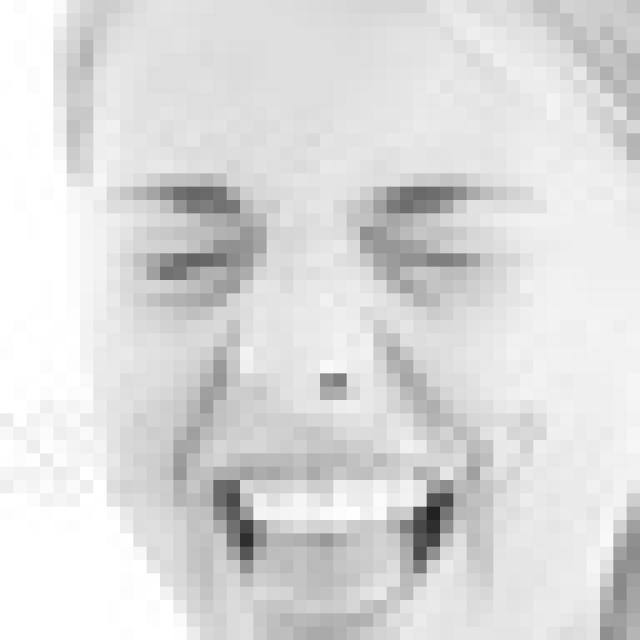disgust: (109, 167, 521, 640)
